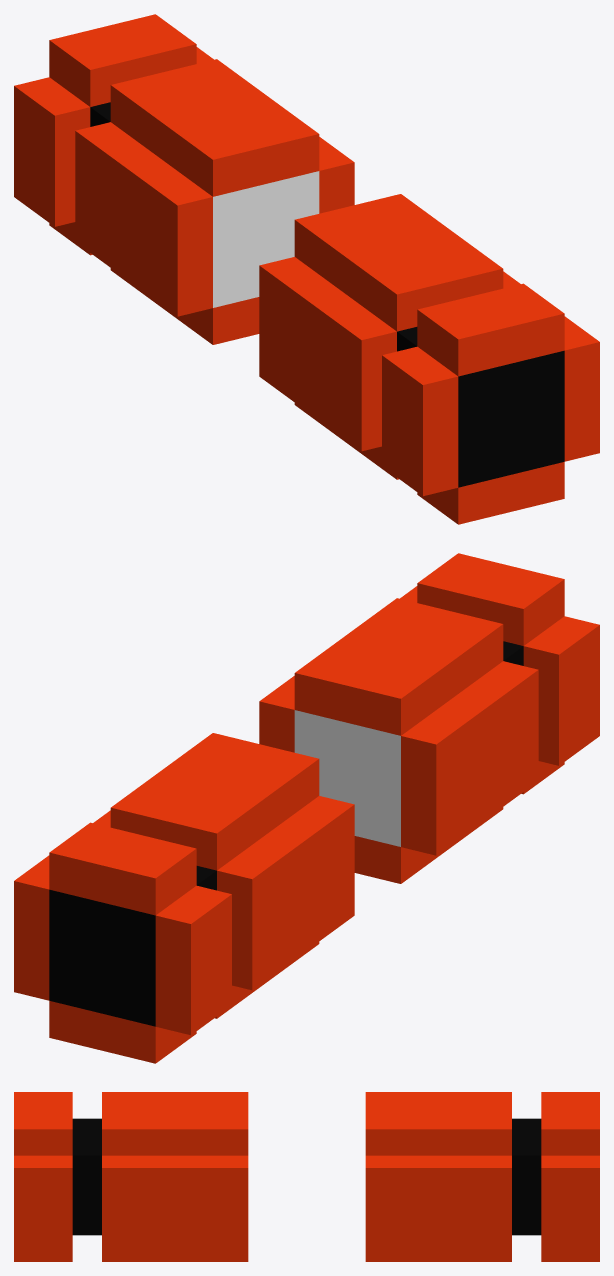
File: arms_armor1.gltf
3 views of the same model, one above another, from view 1: azimuth 30°, elevation 25°; view 2: azimuth 150°, elevation 25°; view 3: azimuth 270°, elevation 25° (orthographic). The views are drawn at different scales.
Visible parts, largest first — view 1: Layer.1; view 2: Layer.1; view 3: Layer.1.
Part boxes in pixels (x1,y1,x2,y2): Layer.1: (14,14,599,524); Layer.1: (14,553,599,1063); Layer.1: (14,1092,599,1261).
Size of the model in its own units: 5 by 5 by 20.
1 material, 1 textured.
